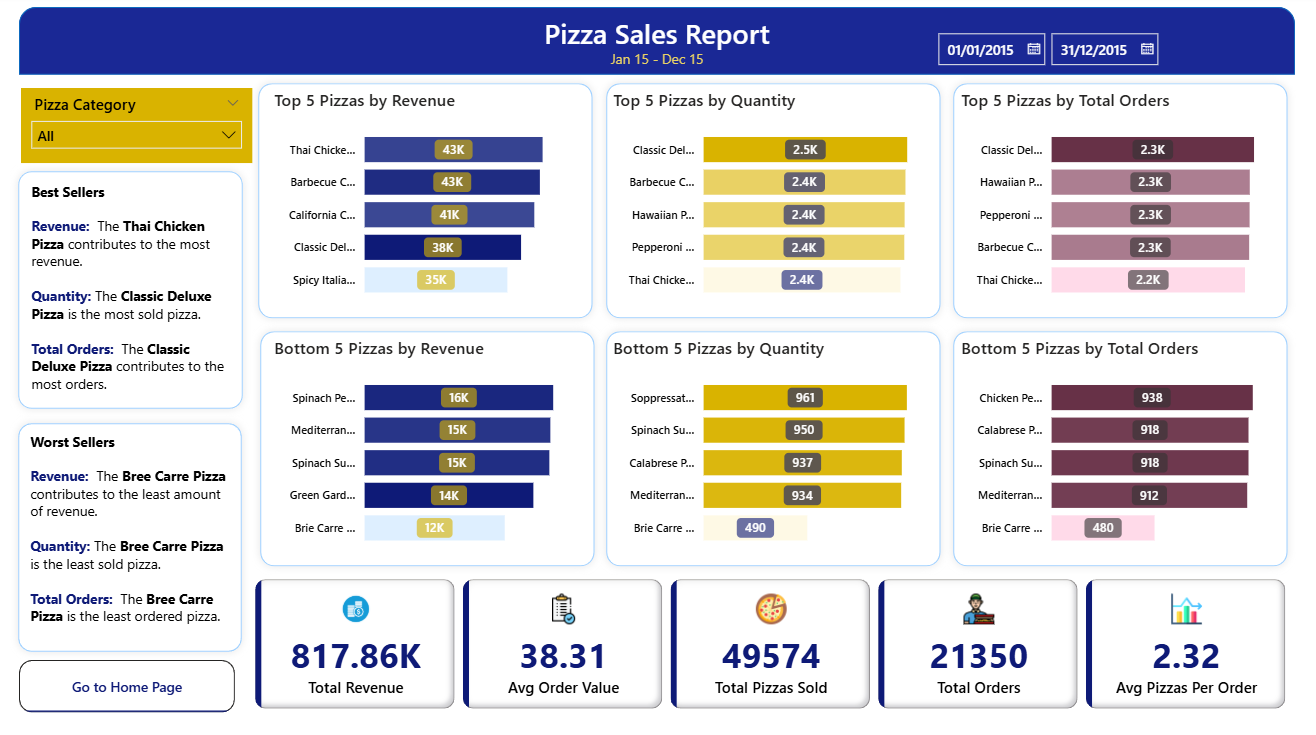

The dashboard page shown, as its layout file describes it:
{"tool":"powerbi","page":{"name":"Go to Best/Worst Sellers","canvas":[1280,720],"ordinal":1},"visuals":[{"type":"cardVisual","fields":{"Data":["pizza_sales.Total Revenue","pizza_sales.Avg Order Value","pizza_sales.Total Pizzas Sold","pizza_sales.Total Orders","pizza_sales.Avg Pizzas Per Order"]},"box":[243.5,562.4,1016.5,136.5],"z":0},{"type":"shape","box":[18.8,10.6,1241.2,65.9],"z":1000},{"type":"textbox","box":[512.9,12.9,252.9,52.9],"z":2000},{"type":"textbox","box":[574.1,47.1,130.6,36.5],"z":3000},{"type":"shape","box":[243.5,76.5,341.2,244.7],"z":4000},{"type":"shape","box":[581.2,76.5,341.2,244.7],"z":5000},{"type":"shape","box":[918.8,76.5,341.2,244.7],"z":6000},{"type":"shape","box":[9.7,407.5,233.4,238.3],"z":7000},{"type":"textbox","box":[24.3,419.2,203.3,215.9],"z":8000},{"type":"shape","box":[9.7,162.4,234.4,247.1],"z":9000},{"type":"textbox","box":[25.3,176,203.3,218.8],"z":10000},{"type":"slicer","fields":{"Values":["pizza_sales.pizza_category"]},"box":[20,89.4,224.7,72.9],"z":11000},{"type":"slicer","fields":{"Values":["pizza_sales.order_date"]},"box":[900,25.9,237.6,50.6],"z":12000},{"type":"shape","box":[244.7,317.6,341.2,244.7],"z":13000},{"type":"shape","box":[581.2,317.6,341.2,244.7],"z":14000},{"type":"shape","box":[918.8,317.6,341.2,244.7],"z":15000},{"type":"barChart","title":"Top 5 Pizzas by Revenue","fields":{"Category":["pizza_sales.pizza_name"],"Y":["pizza_sales.Total Revenue"]},"box":[261.2,90.6,320,216.5],"z":16000},{"type":"barChart","title":"Bottom 5 Pizzas by Revenue","fields":{"Category":["pizza_sales.pizza_name"],"Y":["pizza_sales.Total Revenue"]},"box":[261.2,331.8,320,216.5],"z":17000},{"type":"barChart","title":"Top 5 Pizzas by Quantity","fields":{"Category":["pizza_sales.pizza_name"],"Y":["pizza_sales.Total Pizzas Sold"]},"box":[591.8,90.6,320,216.5],"z":18000},{"type":"barChart","title":"Bottom 5 Pizzas by Quantity","fields":{"Category":["pizza_sales.pizza_name"],"Y":["pizza_sales.Total Pizzas Sold"]},"box":[591.8,331.8,320,216.5],"z":19000},{"type":"barChart","title":"Top 5 Pizzas by Total Orders","fields":{"Category":["pizza_sales.pizza_name"],"Y":["pizza_sales.Total Orders"]},"box":[929.4,90.6,320,216.5],"z":20000},{"type":"barChart","title":"Bottom 5 Pizzas by Total Orders","fields":{"Category":["pizza_sales.pizza_name"],"Y":["pizza_sales.Total Orders"]},"box":[929.4,331.8,320,216.5],"z":21000},{"type":"pageNavigator","box":[18.5,645.8,210.1,51.6],"z":21001}]}

Visuals, with their boxes in screenshot pixels (x1, y1, x2, y2), scaled from the page's 1280x720 canvas onto the 1316x735 screenshot:
cardVisual - pizza_sales.Total Revenue x pizza_sales.Avg Order Value: {"x1": 250, "y1": 574, "x2": 1295, "y2": 713}
shape: {"x1": 19, "y1": 11, "x2": 1295, "y2": 78}
textbox: {"x1": 527, "y1": 13, "x2": 787, "y2": 67}
textbox: {"x1": 590, "y1": 48, "x2": 725, "y2": 85}
shape: {"x1": 250, "y1": 78, "x2": 601, "y2": 328}
shape: {"x1": 598, "y1": 78, "x2": 948, "y2": 328}
shape: {"x1": 945, "y1": 78, "x2": 1295, "y2": 328}
shape: {"x1": 10, "y1": 416, "x2": 250, "y2": 659}
textbox: {"x1": 25, "y1": 428, "x2": 234, "y2": 648}
shape: {"x1": 10, "y1": 166, "x2": 251, "y2": 418}
textbox: {"x1": 26, "y1": 180, "x2": 235, "y2": 403}
slicer - pizza_sales.pizza_category: {"x1": 21, "y1": 91, "x2": 252, "y2": 166}
slicer - pizza_sales.order_date: {"x1": 925, "y1": 26, "x2": 1170, "y2": 78}
shape: {"x1": 252, "y1": 324, "x2": 602, "y2": 574}
shape: {"x1": 598, "y1": 324, "x2": 948, "y2": 574}
shape: {"x1": 945, "y1": 324, "x2": 1295, "y2": 574}
"Top 5 Pizzas by Revenue" barChart: {"x1": 269, "y1": 92, "x2": 598, "y2": 313}
"Bottom 5 Pizzas by Revenue" barChart: {"x1": 269, "y1": 339, "x2": 598, "y2": 560}
"Top 5 Pizzas by Quantity" barChart: {"x1": 608, "y1": 92, "x2": 937, "y2": 313}
"Bottom 5 Pizzas by Quantity" barChart: {"x1": 608, "y1": 339, "x2": 937, "y2": 560}
"Top 5 Pizzas by Total Orders" barChart: {"x1": 956, "y1": 92, "x2": 1285, "y2": 313}
"Bottom 5 Pizzas by Total Orders" barChart: {"x1": 956, "y1": 339, "x2": 1285, "y2": 560}
pageNavigator: {"x1": 19, "y1": 659, "x2": 235, "y2": 712}
